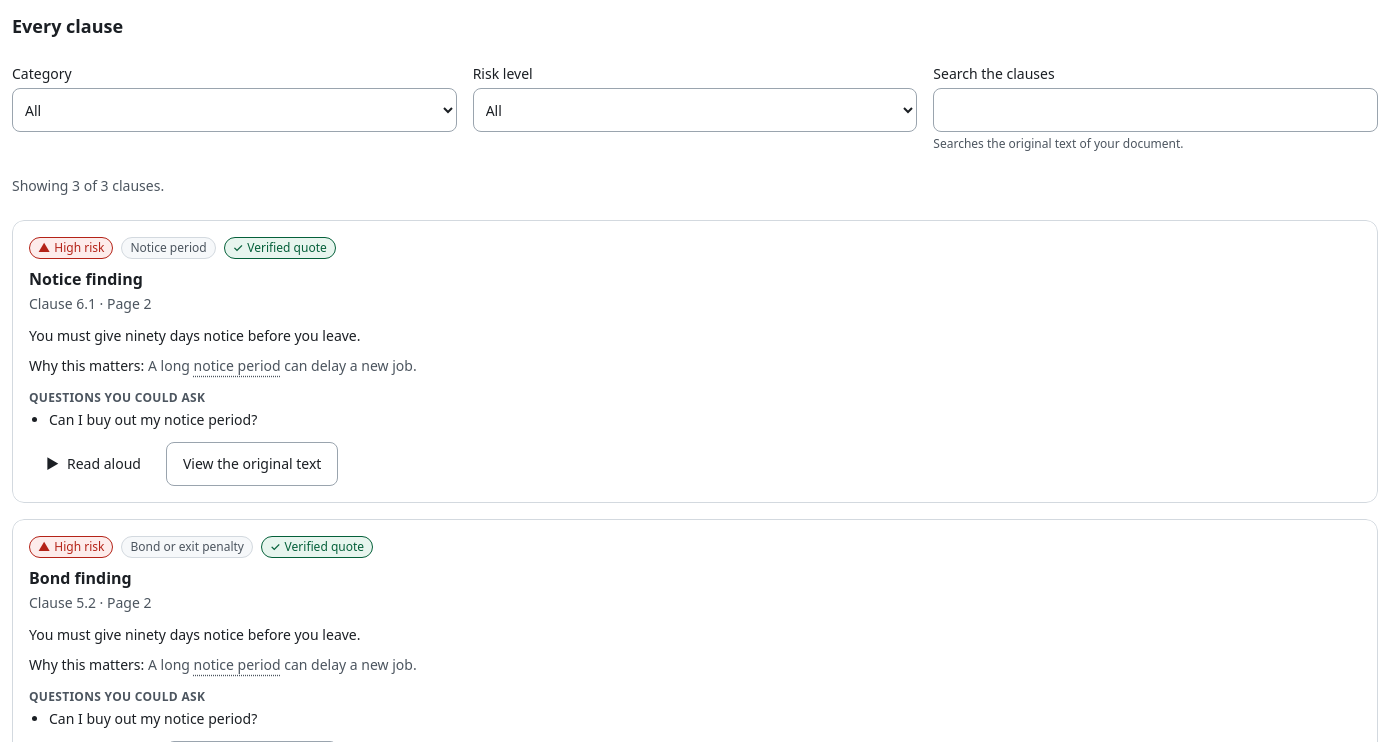
Test: ClauseList › filters by risk level
This screenshot has width=1390, height=742.
Select "Background" in the dropdown labelled "Risk level" at (695, 110), box [473,88,917,132]
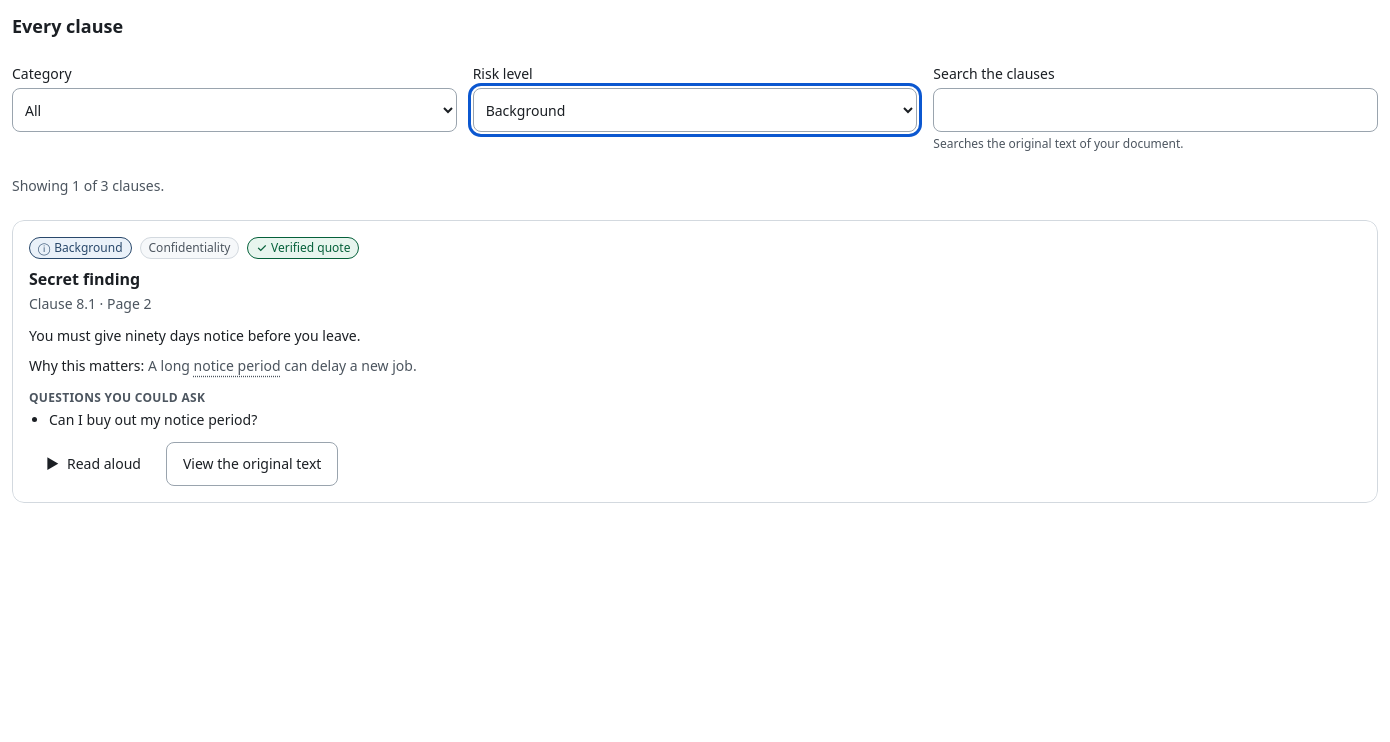
Expected: the heading "Secret finding" is shown, [29,268,140,290]
Result: the heading "Notice finding" is gone
